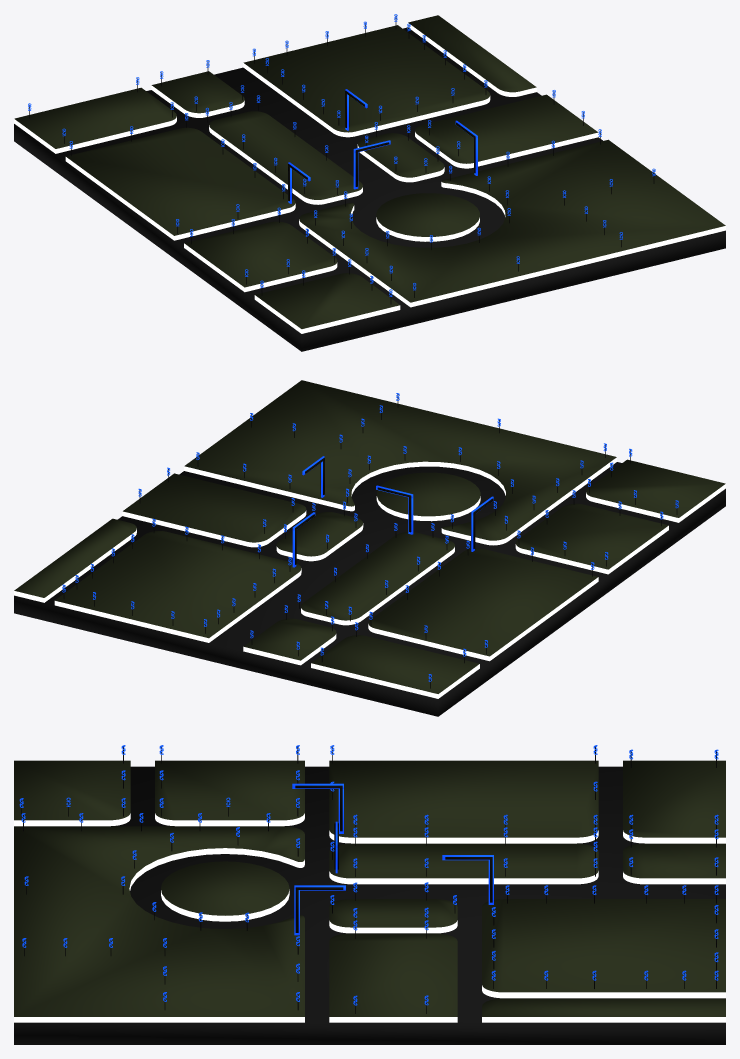
Rendered from foundation.glb.
3 renders of one model, top to bottom at view 1: azimuth 30°, elevation 25°; view 2: azimuth 150°, elevation 25°; view 3: azimuth 270°, elevation 25°, orthographic. The views are drawn at different scales.
Parts seen in each view (by area): view 1: Ground, Ground2, Street lights, Traffic Lights; view 2: Ground, Ground2, Street lights, Traffic Lights; view 3: Ground, Ground2, Street lights, Traffic Lights.
Part boxes in pixels (box(x1,y1,x2,y2)): Ground: box(14, 15, 725, 333); Ground2: box(14, 27, 725, 351); Street lights: box(28, 14, 655, 304); Traffic Lights: box(288, 89, 477, 203); Ground: box(14, 380, 725, 698); Ground2: box(14, 462, 725, 716); Street lights: box(62, 393, 678, 688); Traffic Lights: box(292, 456, 493, 567); Ground: box(14, 760, 725, 1022); Ground2: box(14, 766, 725, 1044); Street lights: box(19, 745, 718, 1013); Traffic Lights: box(292, 783, 493, 935).
Size of the model in its own units: 350 by 49.22 by 411.
